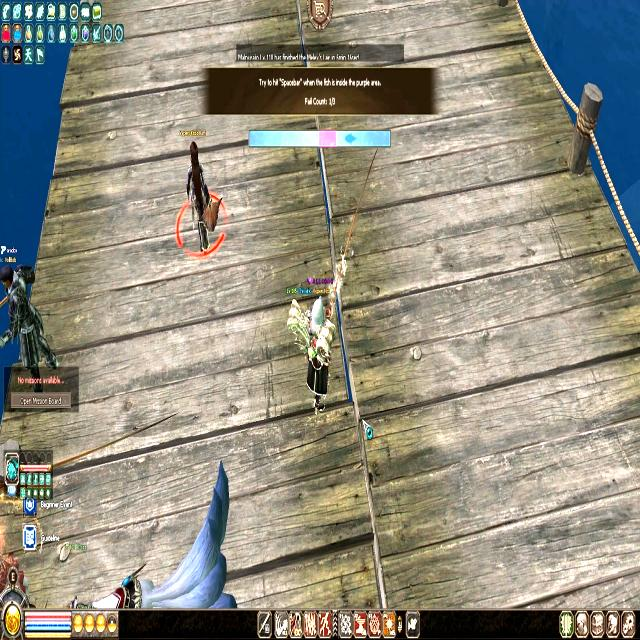fishes: (345, 131, 356, 145)
